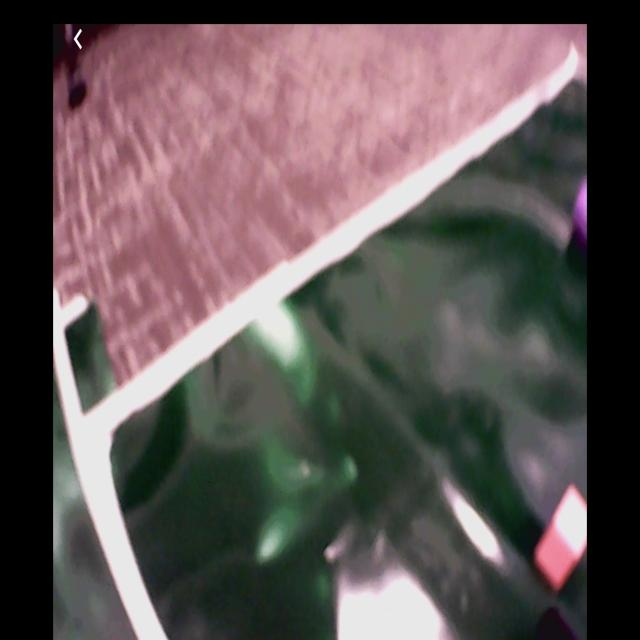ball: (574, 179, 588, 246)
